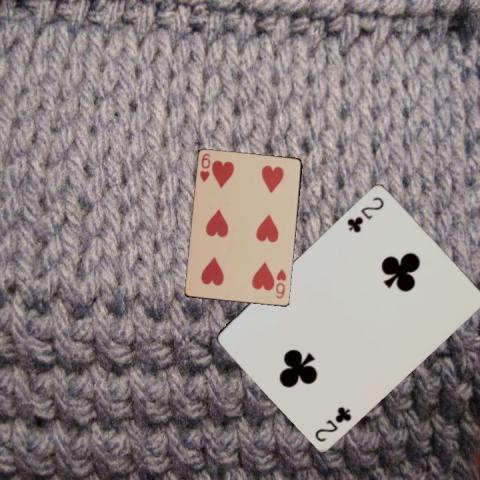2c: (344, 193, 385, 234), (312, 404, 353, 444)
6h: (273, 266, 288, 300), (197, 151, 212, 183)
